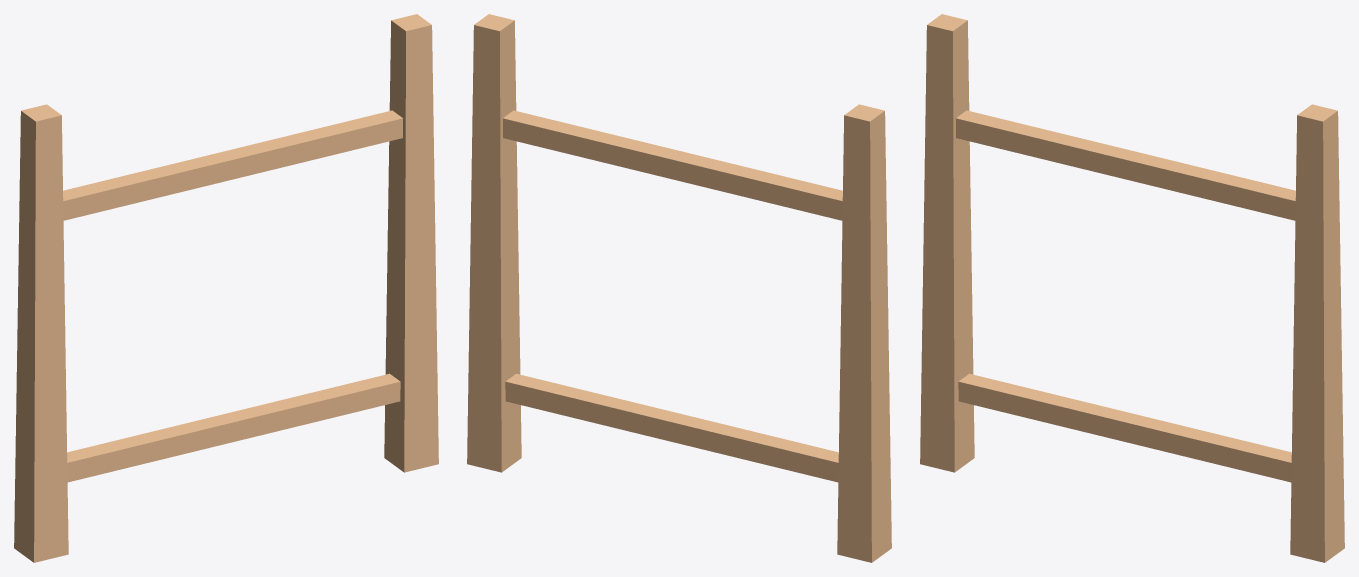
The picture shows the model from 3 angles, left to right: view 1: azimuth 30°, elevation 25°; view 2: azimuth 150°, elevation 25°; view 3: azimuth 330°, elevation 25°; orthographic projection.
Visible parts, largest first — view 1: fence; view 2: fence; view 3: fence.
Part boxes in pixels (box(x1,y1,x2,y2)): fence: box(14, 14, 438, 562); fence: box(467, 14, 891, 562); fence: box(920, 14, 1344, 562).
Size of the model in its own units: 0.5 by 0.5175 by 0.0428.
